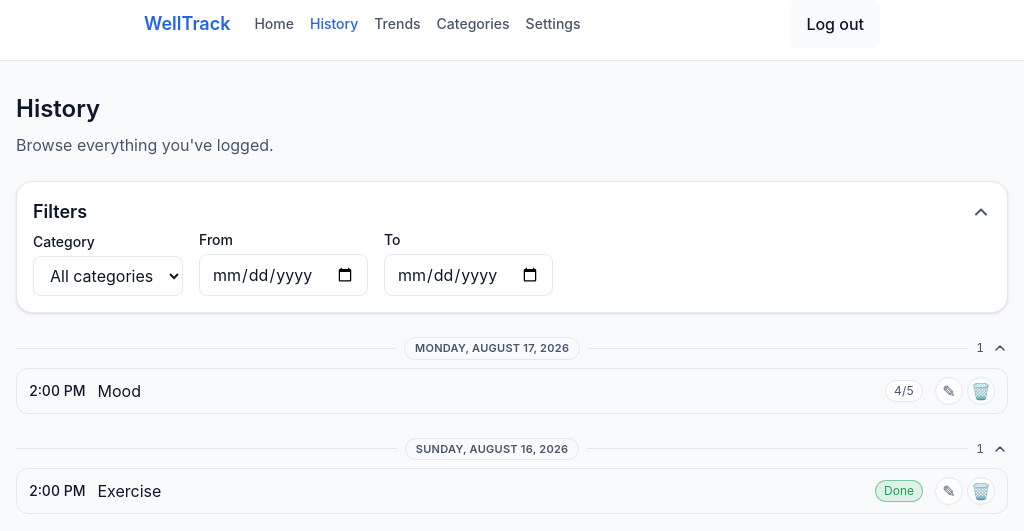
HistoryPage › collapses one date group without affecting another
Expected: the text "Mood" is shown, [98, 380, 141, 400]
Expected: the text "Exercise" is shown, [98, 481, 161, 501]
Click the button "Monday, August 17, 2026 1" at (512, 348), box [16, 337, 1008, 360]
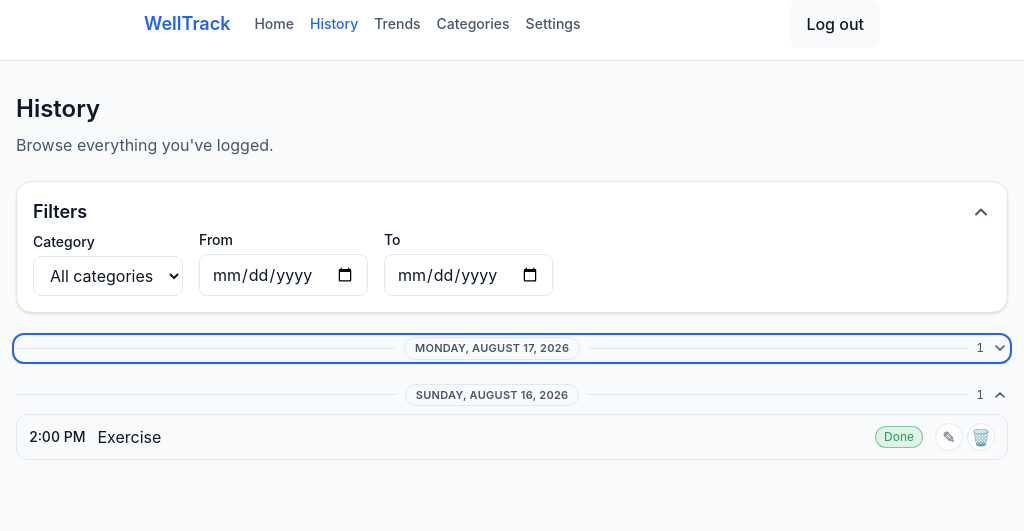
Expected: the text "Exercise" is shown, [98, 427, 161, 447]
Expected: the text "Mood" is gone
